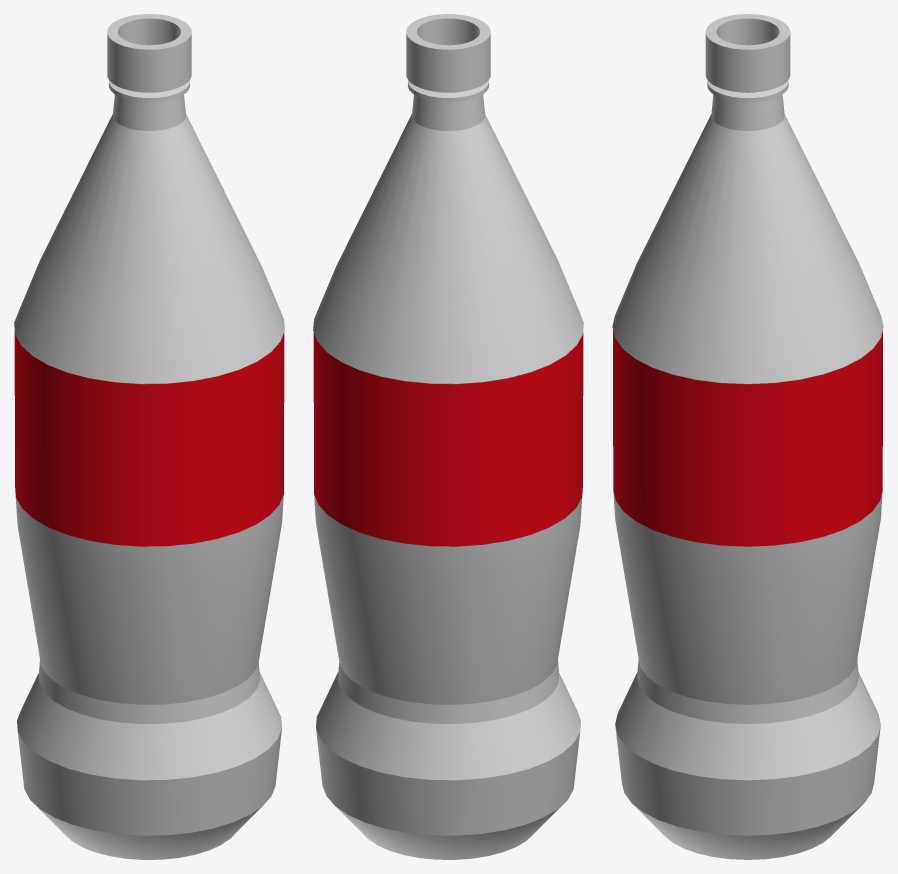
The model's file is 20210712_coke.fbx.
The picture shows the model from 3 angles, left to right: view 1: azimuth 30°, elevation 25°; view 2: azimuth 150°, elevation 25°; view 3: azimuth 270°, elevation 25°; orthographic projection.
Parts seen in each view (by area): view 1: Cylinder, label; view 2: Cylinder, label; view 3: Cylinder, label.
Part boxes in pixels (x1=…): Cylinder: x1=14, y1=14, x2=284, y2=859; label: x1=14, y1=332, x2=284, y2=546; Cylinder: x1=313, y1=14, x2=583, y2=859; label: x1=313, y1=332, x2=583, y2=546; Cylinder: x1=612, y1=14, x2=883, y2=859; label: x1=613, y1=330, x2=882, y2=546.
Size of the model in its own units: 9.48 by 30.46 by 9.48.
